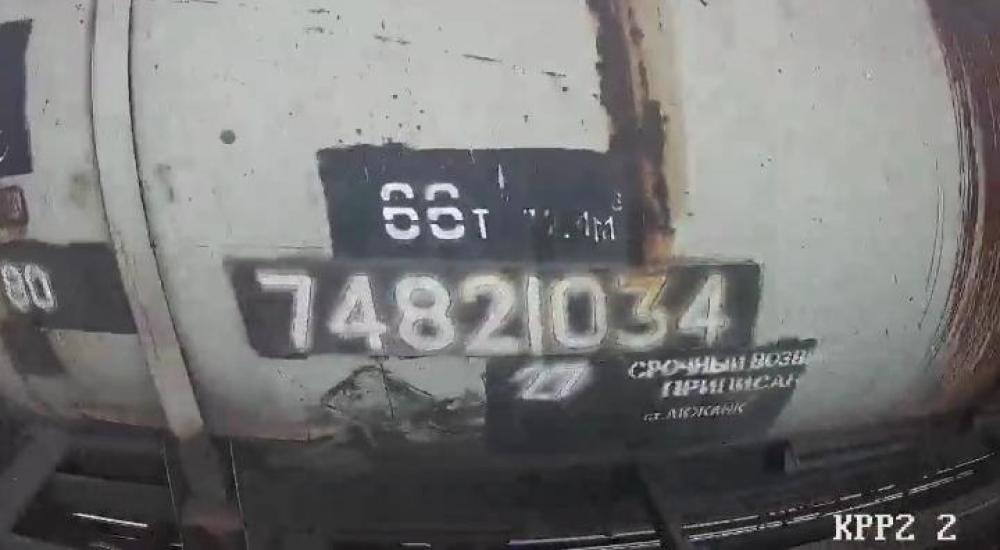Wagon-number: (252, 264, 730, 356)
